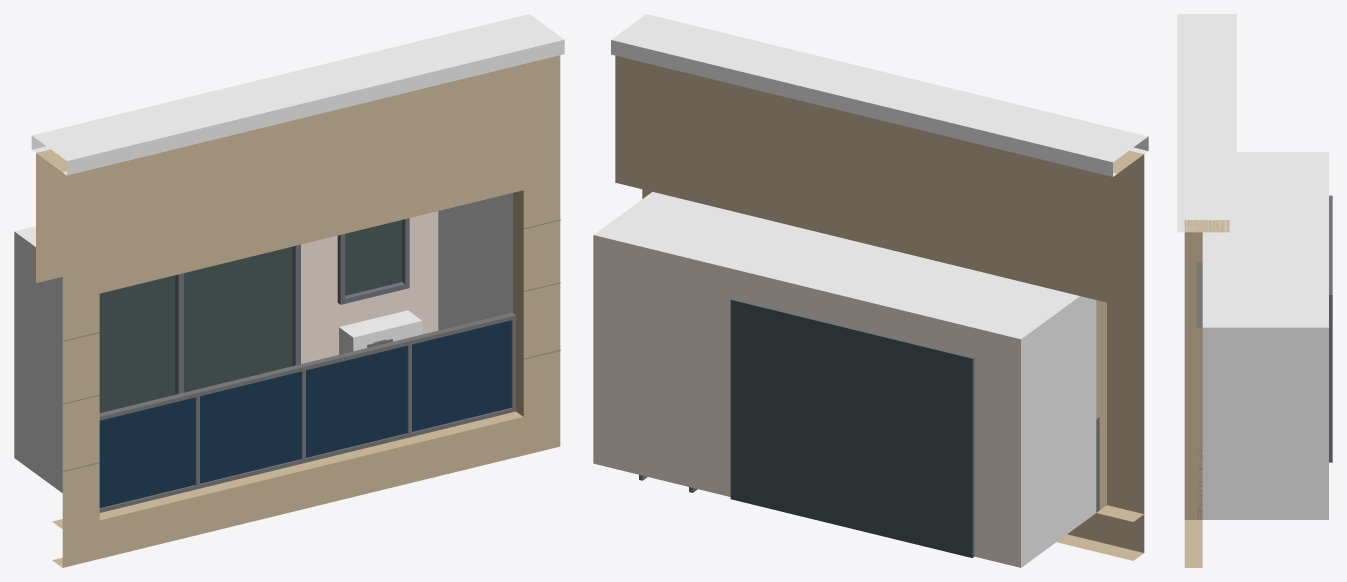
The model's file is top-w1_close.fbx.
The picture shows the model from 3 angles, left to right: view 1: azimuth 30°, elevation 25°; view 2: azimuth 150°, elevation 25°; view 3: azimuth 270°, elevation 25°; orthographic projection. The views are drawn at different scales.
Visible parts, largest first — view 1: a2007/0/top-w1_close; view 2: a2007/0/top-w1_close; view 3: a2007/0/top-w1_close.
Part boxes in pixels (box(x1,y1,x2,y2)): a2007/0/top-w1_close: box(14, 14, 564, 567); a2007/0/top-w1_close: box(593, 14, 1148, 567); a2007/0/top-w1_close: box(1177, 14, 1332, 567).
Bounding box in the file's own units: 5.4 × 4.25 × 1.72.
